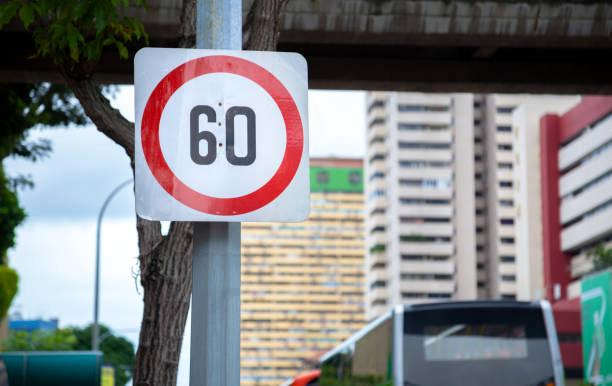Speed Limit -60-: (138, 52, 306, 216)
